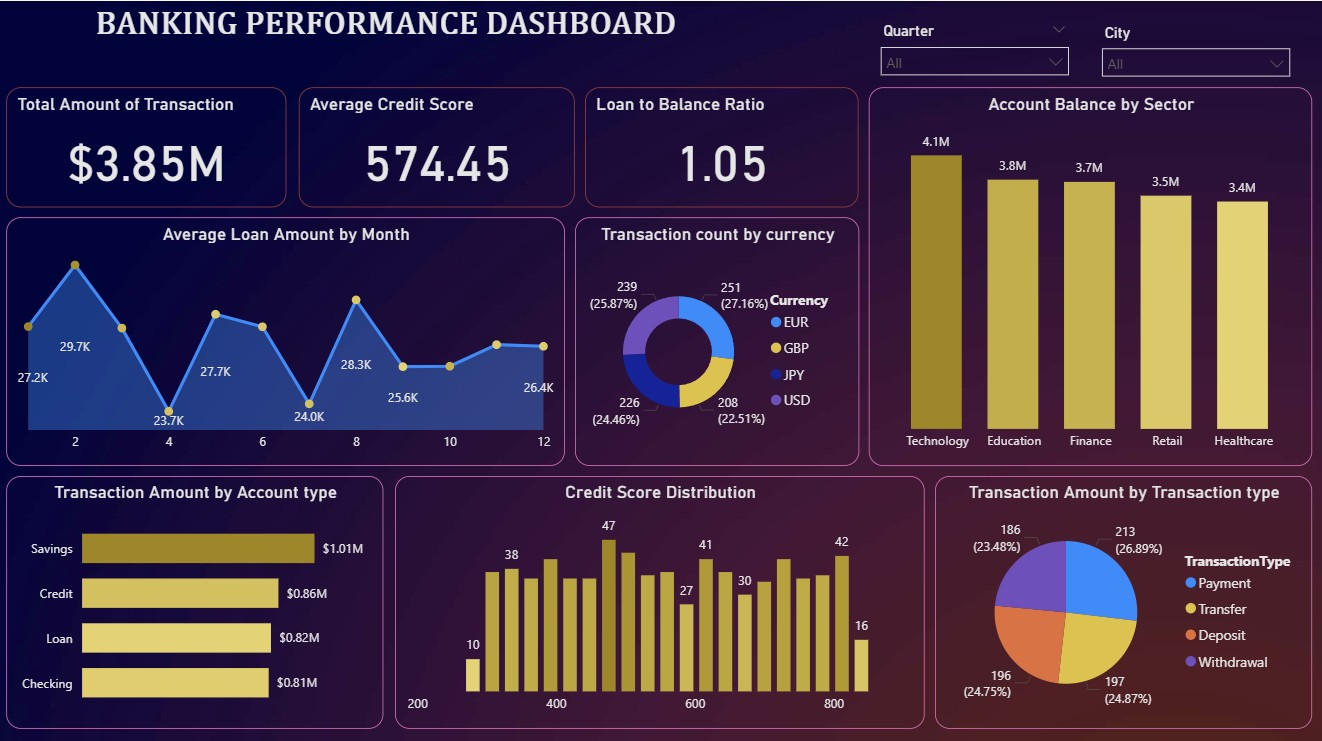

The dashboard page shown, as its layout file describes it:
{"tool":"powerbi","page":{"name":"Dashboard","canvas":[1280,720],"ordinal":5},"visuals":[{"type":"textbox","box":[10.9,0,732.3,74.8],"z":0},{"type":"columnChart","title":"Account Balance by Sector","fields":{"Category":["data2.Sector"],"Y":["Sum(data2.Balance)"]},"box":[843.3,83.2,428.3,365.6],"z":1000},{"type":"clusteredBarChart","title":"Transaction Amount by Account type","fields":{"Category":["data2.AccountType"],"Y":["Sum(data1.Amount_in_USD)"]},"box":[10.9,458.4,364.3,243.7],"z":2000},{"type":"donutChart","title":"Transaction count by currency","fields":{"Series":["data1.Currency"],"Y":["CountNonNull(data1.AccountNumber)"]},"box":[559.9,208.6,274.4,240.1],"z":3000},{"type":"stackedAreaChart","title":"Average Loan Amount by Month","fields":{"Y":["Avg(data2.LoanAmount)"],"Category":["DATE_Opening.Month"]},"box":[11,208.6,539.3,240.1],"z":4000},{"type":"pieChart","title":"Transaction Amount by Transaction type","fields":{"Category":["data1.TransactionType"],"Y":["data1.TransactionCount"]},"box":[907.2,458.4,364.3,243.7],"z":5000},{"type":"clusteredColumnChart","title":"Credit Score Distribution","fields":{"Category":["data2.CreditScore (bins)"],"Y":["CountNonNull(data2.AccountNumber)"]},"box":[386.1,458.4,511.5,243.7],"z":6000},{"type":"card","title":"Total Amount of Transaction","fields":{"Values":["Sum(data1.Amount_in_USD)"]},"box":[10.9,83.2,270.2,115.8],"z":7000},{"type":"card","title":"Average Credit Score","fields":{"Values":["Avg(data2.CreditScore)"]},"box":[293.2,83.2,266.6,115.8],"z":8000},{"type":"card","title":"Loan to Balance Ratio","fields":{"Values":["data2.Loan_to_Balance_Ratio"]},"box":[569.4,83.2,264.2,115.8],"z":9000},{"type":"slicer","fields":{"Values":["data2.City"]},"box":[1058,16.5,201.7,57.6],"z":10000},{"type":"slicer","fields":{"Values":["DATE_Transaction.Quarter"]},"box":[843.9,15.1,201.7,57.6],"z":11000}]}

Visuals, with their boxes in screenshot pixels (x1, y1, x2, y2), scaled from the page's 1280x720 canvas onto the 1322x741 screenshot:
textbox: locate(11, 0, 768, 77)
"Account Balance by Sector" columnChart: locate(871, 86, 1313, 462)
"Transaction Amount by Account type" clusteredBarChart: locate(11, 472, 388, 723)
"Transaction count by currency" donutChart: locate(578, 215, 862, 462)
"Average Loan Amount by Month" stackedAreaChart: locate(11, 215, 568, 462)
"Transaction Amount by Transaction type" pieChart: locate(937, 472, 1313, 723)
"Credit Score Distribution" clusteredColumnChart: locate(399, 472, 927, 723)
"Total Amount of Transaction" card: locate(11, 86, 290, 205)
"Average Credit Score" card: locate(303, 86, 578, 205)
"Loan to Balance Ratio" card: locate(588, 86, 861, 205)
slicer - data2.City: locate(1093, 17, 1301, 76)
slicer - DATE_Transaction.Quarter: locate(872, 16, 1080, 75)
